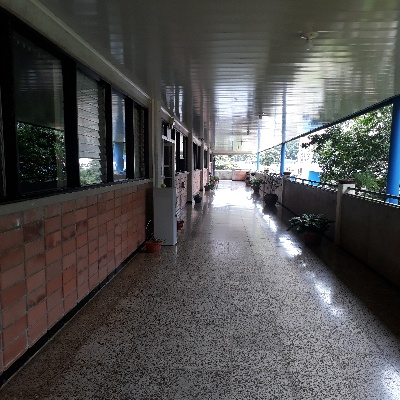Ball: (160, 183, 166, 188)
